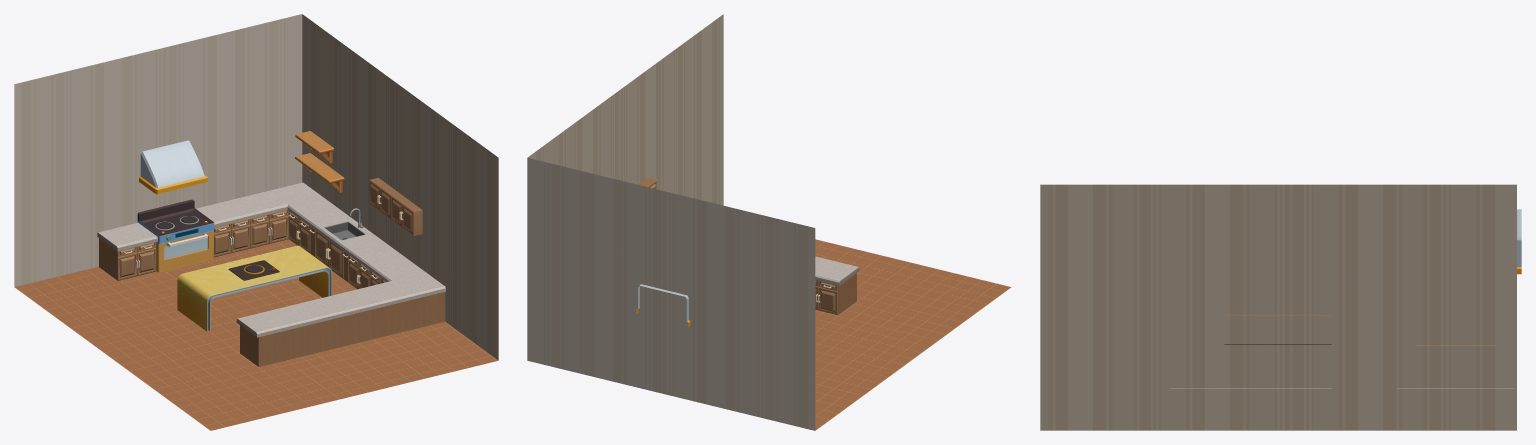
Rendered from Restaurant_kitchen.FBX.
3 renders of one model, left to right at view 1: azimuth 30°, elevation 25°; view 2: azimuth 150°, elevation 25°; view 3: azimuth 270°, elevation 25°, orthographic. The views are drawn at different scales.
Parts seen in each view (by area): view 1: polySurface3627_group37, polySurface3932, group37_polySurface3628, group37_polySurface3449, group37_polySurface3658, polySurface3547_group37_polySurface3915, polySurface3656_group37, polySurface3914_polySurface3547_group37; view 2: polySurface3627_group37, group37_polySurface3449, group37_polySurface3628, polySurface3932; view 3: group37_polySurface3449, polySurface3932.
Boxes of the visible parts, left/top/right/bottom form: polySurface3627_group37: left=14, top=14, right=302, bottom=286; polySurface3932: left=97, top=131, right=445, bottom=366; group37_polySurface3628: left=14, top=239, right=498, bottom=430; group37_polySurface3449: left=302, top=14, right=498, bottom=360; group37_polySurface3658: left=137, top=199, right=214, bottom=272; polySurface3547_group37_polySurface3915: left=158, top=231, right=213, bottom=265; polySurface3656_group37: left=228, top=260, right=279, bottom=280; polySurface3914_polySurface3547_group37: left=164, top=238, right=207, bottom=259; polySurface3627_group37: left=527, top=158, right=815, bottom=430; group37_polySurface3449: left=527, top=14, right=723, bottom=205; group37_polySurface3628: left=815, top=239, right=1011, bottom=430; polySurface3932: left=636, top=177, right=859, bottom=326; group37_polySurface3449: left=1040, top=184, right=1516, bottom=430; polySurface3932: left=1170, top=209, right=1521, bottom=388.
Size of the model in its own units: 194 by 130 by 231.
